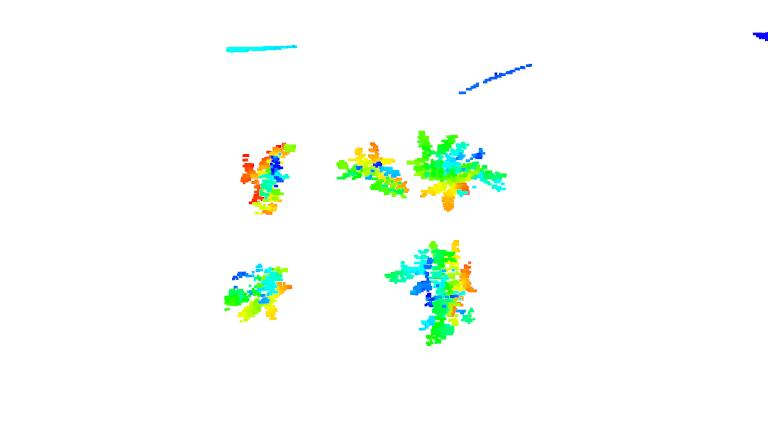chickpea: (387, 239, 480, 347), (406, 130, 510, 214), (236, 139, 298, 217), (221, 260, 293, 324), (335, 141, 413, 199)
